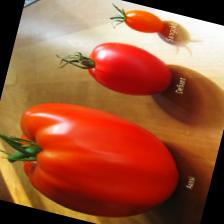tomato: (0, 89, 190, 224), (51, 27, 180, 104), (106, 2, 168, 40)
